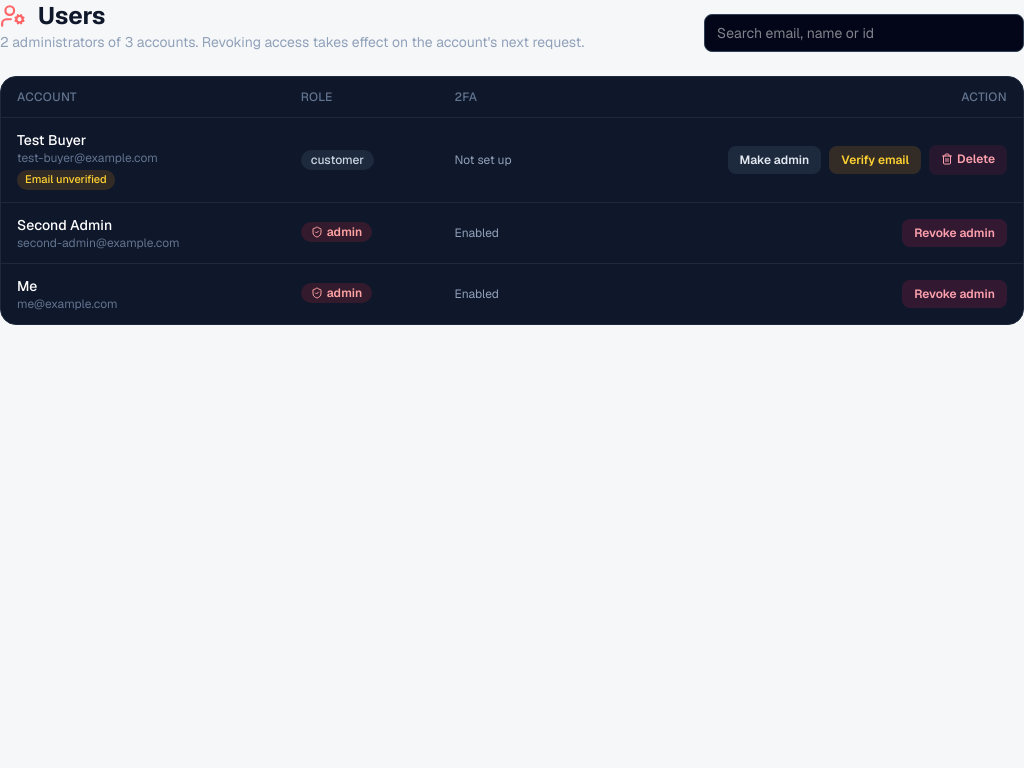
it: AdminUsersPage: delete account › opens a panel that names the account before anything is sent
Click the button "Delete" at (968, 160), box [929,145,1007,175]
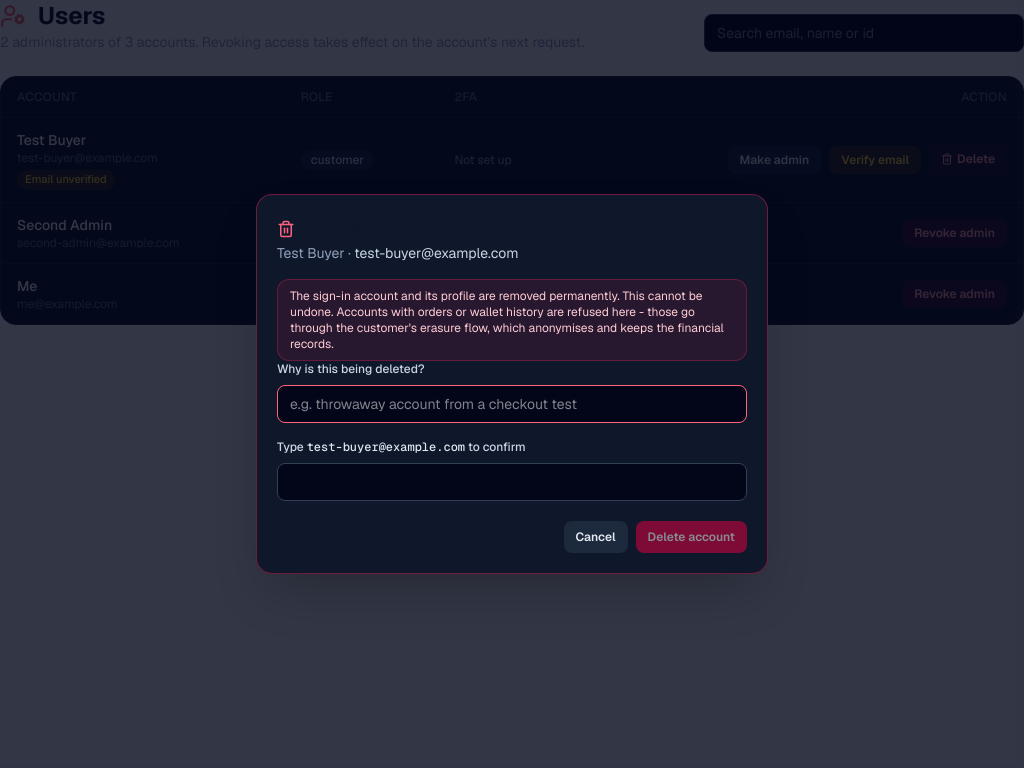
Check: the dialog shows "Test Buyer", box [277,244,344,262]
Check: the dialog shows "test-buyer@example.com", box [354,244,518,262]
